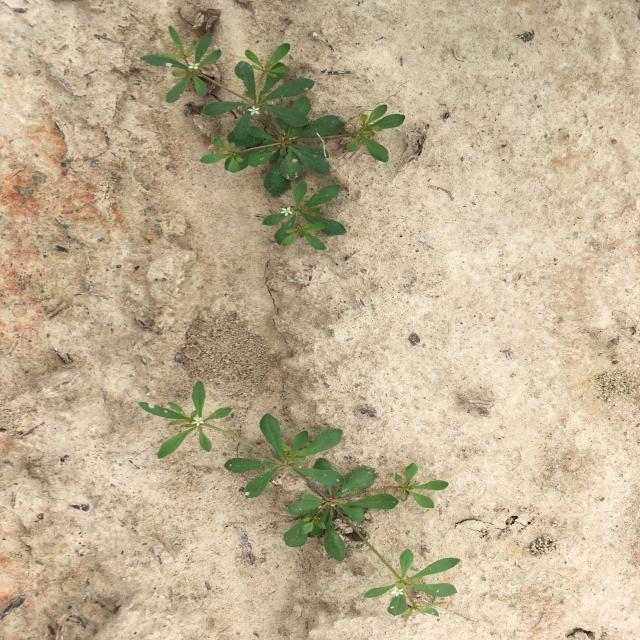Carpetweed: (140, 26, 406, 250)
